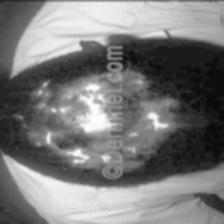Unclassified: (36, 127, 72, 150), (27, 78, 67, 97)
